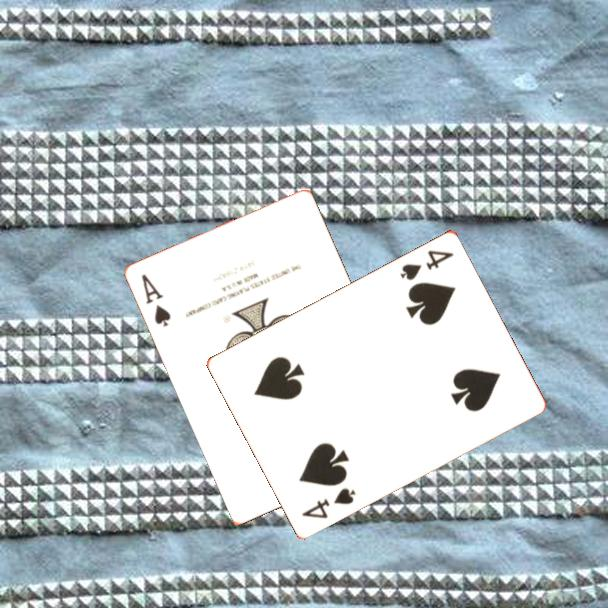s01: (138, 271, 174, 330)
s04: (298, 484, 359, 521), (396, 246, 456, 283)
